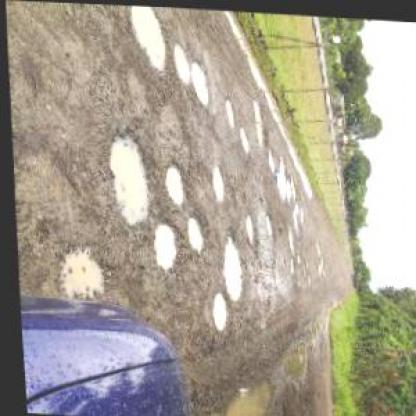pothole: (102, 130, 152, 226), (50, 243, 104, 301), (218, 230, 240, 300), (147, 219, 177, 269), (186, 58, 211, 106), (162, 164, 184, 204), (169, 39, 190, 80), (180, 212, 202, 251), (205, 288, 226, 328), (251, 98, 268, 143), (273, 156, 287, 198), (207, 162, 223, 198), (241, 209, 254, 247), (237, 123, 248, 154), (224, 96, 235, 123), (265, 144, 274, 171), (262, 211, 272, 234)
